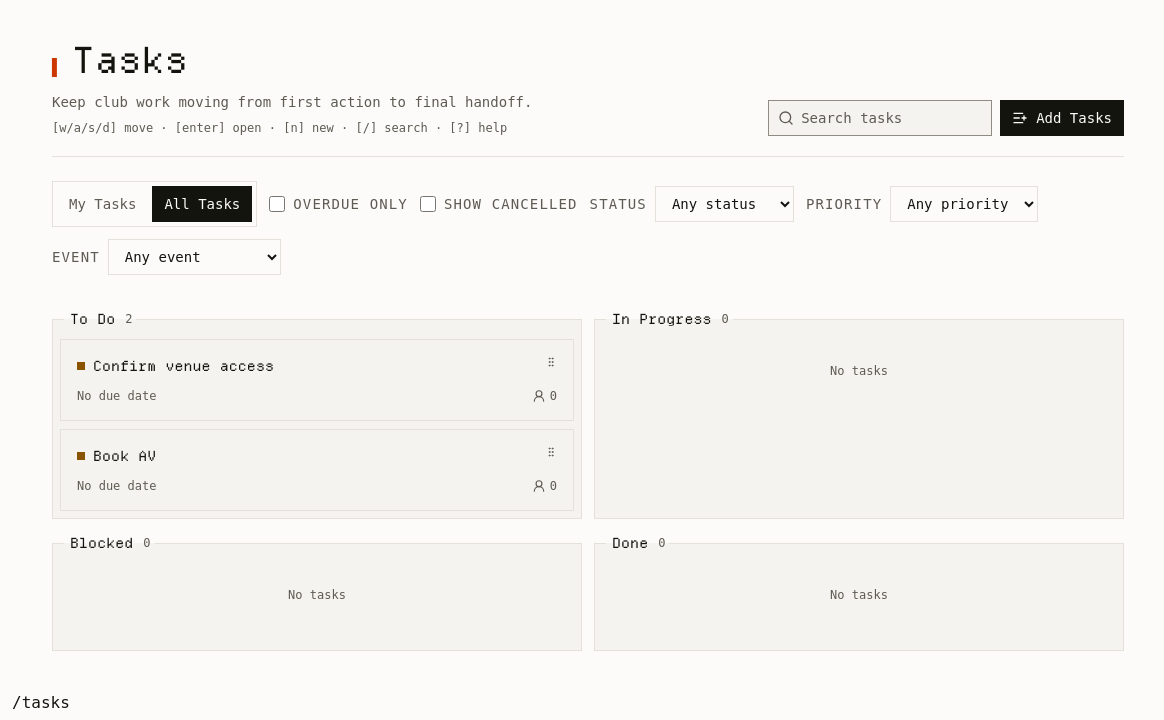
TasksPage › filters the board by title, case-insensitively
Expected: the heading "Book AV" is shown, [93,447,156,465]
Type "BOOK av" into the search field labelled "Search tasks". click: [880, 118]
box: [768,100,992,136]
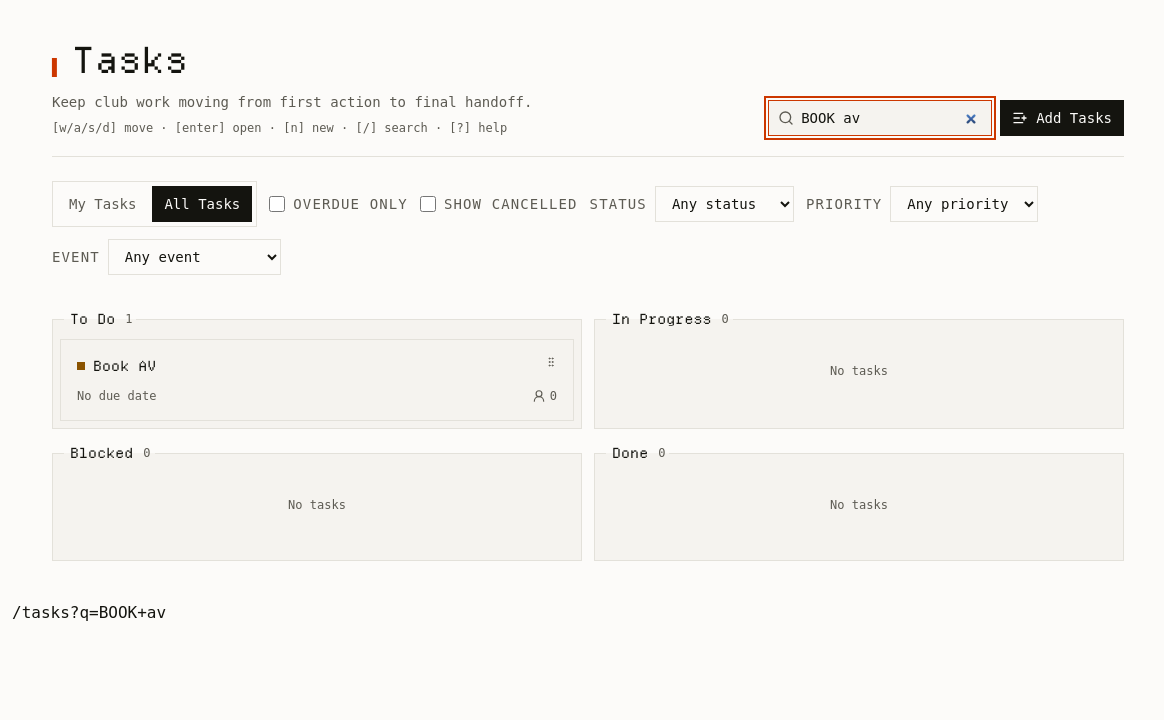
Expected: the heading "Book AV" is shown, [93,357,156,375]
Expected: the heading "Confirm venue access" is gone
Replace the text in the search field named "Search tasks" with "nothing like this". click: [880, 118]
box: [768,100,992,136]
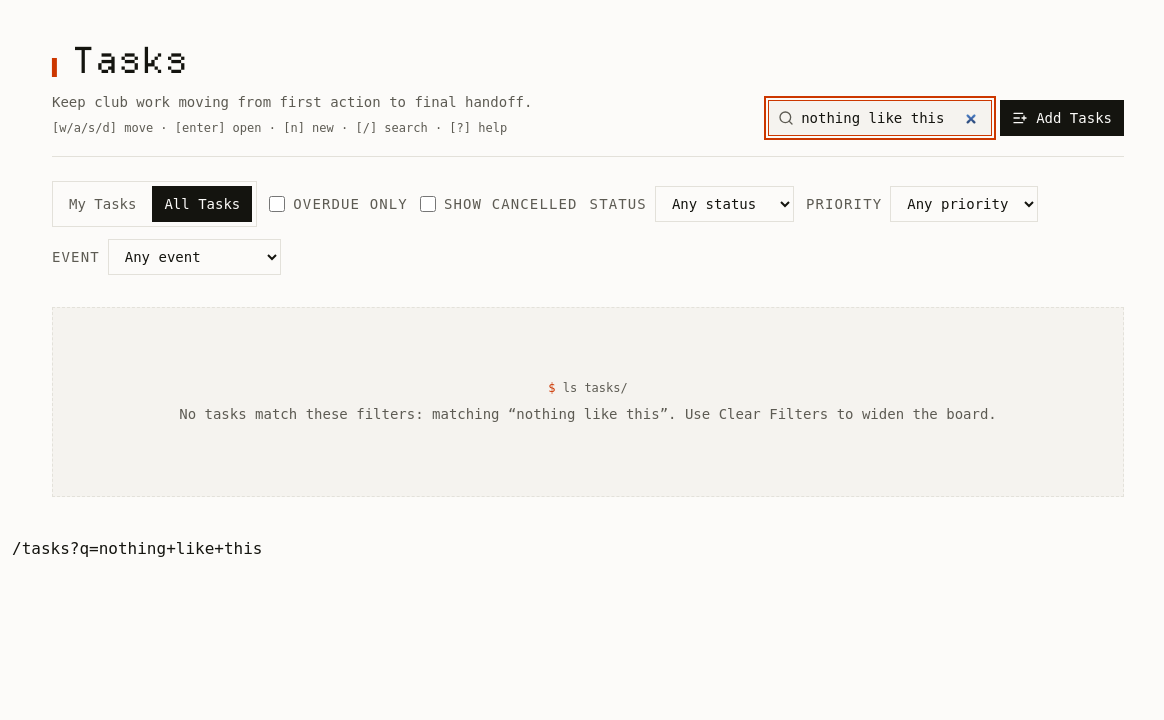
Expected: the text "No tasks match these filters: matching “nothing like this”." is shown, [179,406,997,422]
Clear the search field named "Search tasks". click: [880, 118]
box: [768,100,992,136]
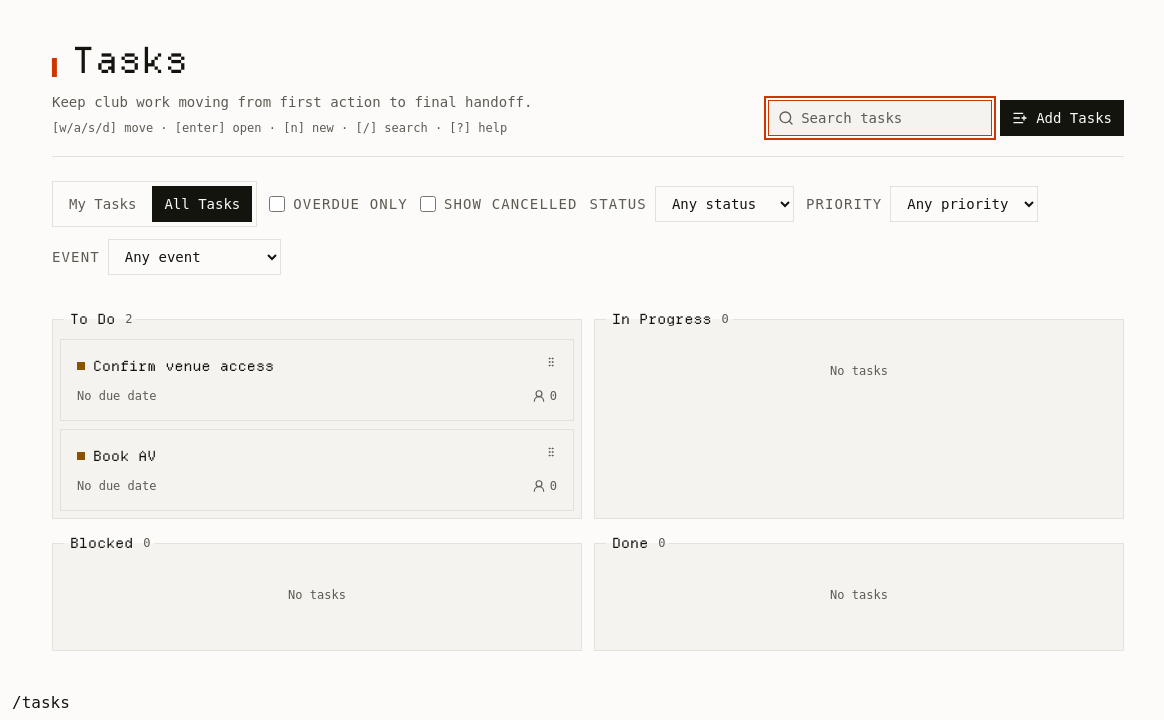
Expected: the heading "Confirm venue access" is shown, [93,357,274,375]
Expected: the heading "Book AV" is shown, [93,447,156,465]
